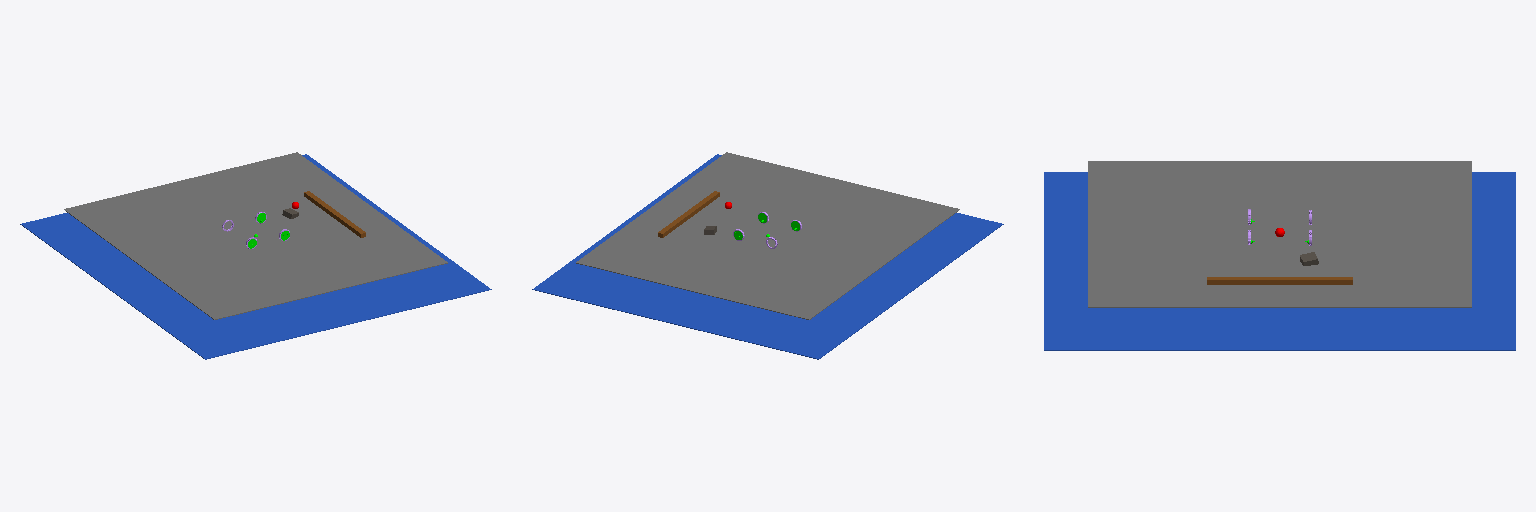
URDF robot description (0724_urdf):
<?xml version="1.0" encoding="utf-8"?>
<!-- This URDF was automatically created by SolidWorks to URDF Exporter! Originally created by Stephen Brawner (brawner@gmail.com) 
     Commit Version: 1.6.0-4-g7f85cfe  Build Version: 1.6.7995.38578
     For more information, please see http://wiki.ros.org/sw_urdf_exporter -->
<robot name="0724_urdf">

  <!-- =================================================================== -->
  <!-- ROOT LINK: ground_sphere (기준 구 - 원점 0,0,0)                     -->
  <!-- =================================================================== -->
  <link name="ground_sphere">
    <inertial>
      <origin xyz="0 0 0" rpy="0 0 0" />
      <mass value="0.1" />
      <inertia ixx="0.0001" ixy="0" ixz="0" iyy="0.0001" iyz="0" izz="0.0001" />
    </inertial>
    <visual>
      <origin xyz="0 0 0" rpy="0 0 0" />
      <geometry>
        <sphere radius="0.03" />
      </geometry>
      <material name="green_material">
        <color rgba="0.0 1.0 0.0 1.0" />
      </material>
    </visual>
    <collision>
      <origin xyz="0 0 0" rpy="0 0 0" />
      <geometry>
        <sphere radius="0.03" />
      </geometry>
    </collision>
  </link>

  <!-- =================================================================== -->
  <!-- LINK: ellipsoid_surface (Z축 아래로 0.30m 이동)                     -->
  <!-- =================================================================== -->
  <link name="ellipsoid_surface">
    <inertial>
      <origin xyz="0 0 0" rpy="0 0 0" />
      <mass value="30.0" />
      <inertia ixx="3.0" ixy="0" ixz="0" iyy="2.4" iyz="0" izz="5.0" />
    </inertial>
    <visual>
      <origin xyz="0 0 0" rpy="0 0 0" />
      <geometry>
        <box size="4.341 4.852 0.01" />
      </geometry>
      <material name="ellipsoid_mat">
        <color rgba="0.2 0.4 0.8 0.5" />
      </material>
    </visual>
    <collision>
      <origin xyz="0 0 0" rpy="0 0 0" />
      <geometry>
        <box size="4.341 4.852 0.01" />
      </geometry>
    </collision>
  </link>

  <joint name="sphere_to_ellipsoid_joint" type="fixed">
    <origin xyz="0 0 -0.30" rpy="0 0 0" />
    <parent link="ground_sphere" />
    <child link="ellipsoid_surface" />
  </joint>

  <!-- =================================================================== -->
  <!-- LINK: ground (3.544m x 3.964m)                                      -->
  <!-- =================================================================== -->
  <link name="ground">
    <inertial>
      <origin xyz="0 0 0" rpy="0 0 0" />
      <mass value="10.0" />
      <inertia ixx="0.818" ixy="0" ixz="0" iyy="0.654" iyz="0" izz="1.472" />
    </inertial>
    <visual>
      <origin xyz="0 0 0" rpy="0 0 0" />
      <geometry>
        <box size="3.544 3.964 0.01" />
      </geometry>
      <material name="ground_mat">
        <color rgba="0.5 0.5 0.5 0.8" />
      </material>
    </visual>
    <collision>
      <origin xyz="0 0 0" rpy="0 0 0" />
      <geometry>
        <box size="3.544 3.964 0.01" />
      </geometry>
    </collision>
  </link>

  <!-- 부모 링크를 ellipsoid_surface로 변경하여 ground_sphere -> ellipsoid_surface -> ground 구조 형성 -->
  <joint name="ellipsoid_to_ground_joint" type="fixed">
    <origin xyz="0 0 0.30" rpy="0 0 0" />
    <parent link="ellipsoid_surface" />
    <child link="ground" />
  </joint>

  <!-- =================================================================== -->
  <!-- ADDED: RECTANGULAR WOOD BAR (직사각형 각목 형태 나무막대)           -->
  <!-- =================================================================== -->
  <link name="obstacle_wood_bar">
    <inertial>
      <origin xyz="0 0 0" rpy="0 0 0" />
      <mass value="2.0" />
      <inertia ixx="0.37" ixy="0" ixz="0" iyy="0.001" iyz="0" izz="0.37" />
    </inertial>
    <visual>
      <origin xyz="0 0 0" rpy="0 0 0" />
      <geometry>
        <!-- 폭 0.08m, 길이 1.5m, 높이 0.06m (바퀴 높이 절반) -->
        <box size="0.08 1.5 0.06" />
      </geometry>
      <material name="wood_mat">
        <color rgba="0.55 0.35 0.15 1.0" />
      </material>
    </visual>
    <collision>
      <origin xyz="0 0 0" rpy="0 0 0" />
      <geometry>
        <box size="0.08 1.5 0.06" />
      </geometry>
    </collision>
  </link>

  <joint name="ground_to_wood_bar_joint" type="fixed">
    <origin xyz="1.2 0.0 0.035" rpy="0 0 0" />
    <parent link="ground" />
    <child link="obstacle_wood_bar" />
  </joint>

  <!-- =================================================================== -->
  <!-- SINGLE ROCK OBSTACLE (단일 돌멩이 장애물)                           -->
  <!-- =================================================================== -->
  <link name="obstacle_rock_1">
    <inertial>
      <origin xyz="0 0 0" rpy="0 0 0" />
      <mass value="1.5" />
      <inertia ixx="0.005" ixy="0" ixz="0" iyy="0.005" iyz="0" izz="0.005" />
    </inertial>
    <visual>
      <origin xyz="0 0 0" rpy="0 0 0" />
      <geometry>
        <box size="0.14 0.16 0.07" />
      </geometry>
      <material name="rock_mat_1">
        <color rgba="0.38 0.35 0.32 1.0" />
      </material>
    </visual>
    <collision>
      <origin xyz="0 0 0" rpy="0 0 0" />
      <geometry>
        <box size="0.14 0.16 0.07" />
      </geometry>
    </collision>
  </link>

  <joint name="ground_to_rock_1_joint" type="fixed">
    <origin xyz="0.7 0.3 0.04" rpy="0.1 0.15 0.3" />
    <parent link="ground" />
    <child link="obstacle_rock_1" />
  </joint>

  <!-- =================================================================== -->
  <!-- CAR FRAME                                                           -->
  <!-- =================================================================== -->
  <link name="car_frame">
    <inertial>
      <origin xyz="-0.0699924818342827 4.77680336962046E-09 0.266986488786553" rpy="0 0 0" />
      <mass value="4.36726752622487" />
      <inertia ixx="0.120130237589006" ixy="2.47975489095435E-06" ixz="-3.27227207151588E-05" iyy="0.191286662671253" iyz="2.68105956435735E-10" izz="0.301245720968892" />
    </inertial>
    <visual>
      <origin xyz="0 0 0" rpy="0 0 0" />
      <geometry>
        <mesh filename="../meshes/car_frame.STL" />
      </geometry>
      <material name="car_frame_mat">
        <color rgba="0.894117647058823 0.894117647058823 0.894117647058823 1" />
      </material>
    </visual>
    <collision>
      <origin xyz="0 0 0" rpy="0 0 0" />
      <geometry>
        <mesh filename="../meshes/car_frame.STL" />
      </geometry>
    </collision>
  </link>

  <joint name="ground_to_car_frame_joint" type="fixed">
    <origin xyz="0 0 0.005" rpy="0 0 0" />
    <parent link="ground" />
    <child link="car_frame" />
  </joint>

  <!-- =================================================================== -->
  <!-- LINK: RED SPHERE (전방 X축 배치)                                    -->
  <!-- =================================================================== -->
  <link name="front_target_sphere">
    <inertial>
      <origin xyz="0 0 0" rpy="0 0 0" />
      <mass value="0.05" />
      <inertia ixx="0.00005" ixy="0" ixz="0" iyy="0.00005" iyz="0" izz="0.00005" />
    </inertial>
    <visual>
      <origin xyz="0 0 0" rpy="0 0 0" />
      <geometry>
        <sphere radius="0.05" />
      </geometry>
      <material name="red_material">
        <color rgba="1.0 0.0 0.0 1.0" />
      </material>
    </visual>
    <collision>
      <origin xyz="0 0 0" rpy="0 0 0" />
      <geometry>
        <sphere radius="0.05" />
      </geometry>
    </collision>
  </link>

  <joint name="front_target_joint" type="fixed">
    <origin xyz="0.6 0 0.3" rpy="0 0 0" />
    <parent link="car_frame" />
    <child link="front_target_sphere" />
  </joint>

  <!-- =================================================================== -->
  <!-- SWING & WHEELS                                                      -->
  <!-- =================================================================== -->
  <link name="swing_link">
    <inertial>
      <origin xyz="2.89027833825533E-08 0.0605903676257634 0.00266440834148721" rpy="0 0 0" />
      <mass value="1.44344385530309" />
      <inertia ixx="0.00290322324922314" ixy="-5.3629396489287E-10" ixz="-2.47940935714728E-06" iyy="0.00598687173589356" iyz="3.64864367309232E-06" izz="0.00529337280538947" />
    </inertial>
    <visual>
      <origin xyz="0 0 0" rpy="0 0 0" />
      <geometry>
        <mesh filename="../meshes/swing_link.STL" />
      </geometry>
      <material name="swing_mat">
        <color rgba="0.894117647058823 0.894117647058823 0.894117647058823 1" />
      </material>
    </visual>
    <collision>
      <origin xyz="0 0 0" rpy="0 0 0" />
      <geometry>
        <mesh filename="../meshes/swing_link.STL" />
      </geometry>
    </collision>
  </link>

  <joint name="swing_joint" type="revolute">
    <origin xyz="0.226 0 0.19572" rpy="-1.5708 0 -1.5708" />
    <parent link="car_frame" />
    <child link="swing_link" />
    <axis xyz="0 0 1" />
    <limit lower="-0.2" upper="0.2" effort="10.0" velocity="1.0" />
  </joint>

  <!-- WHEEL FR & TIRE FR -->
  <link name="wheel_fr">
    <inertial>
      <origin xyz="-0.00570311862923931 0.0422312078327481 -0.00829956160844914" rpy="0 0 0" />
      <mass value="0.304138859926848" />
      <inertia ixx="0.000395045316087024" ixy="-2.69138802125918E-06" ixz="-4.80158404940406E-07" iyy="0.000414316538014111" iyz="3.47729172120058E-06" izz="0.000760266253987474" />
    </inertial>
    <visual>
      <origin xyz="0 0 0" rpy="0 0 0" />
      <geometry>
        <mesh filename="../meshes/wheel_fr.STL" />
      </geometry>
      <material name="green_wheel">
        <color rgba="0 1 0 1" />
      </material>
    </visual>
    <collision>
      <origin xyz="0 0 0" rpy="0 0 0" />
      <geometry>
        <mesh filename="../meshes/wheel_fr.STL" />
      </geometry>
    </collision>
  </link>

  <joint name="wheel_fr_joint" type="continuous">
    <origin xyz="0.32225 0.1648 0.03" rpy="1.5708 -1.5108 1.5708" />
    <parent link="swing_link" />
    <child link="wheel_fr" />
    <axis xyz="0 0 -1" />
  </joint>

  <link name="tire_fr">
    <inertial>
      <origin xyz="7.76422831502976E-05 0.00868726029411421 0.0001059050331738" rpy="0 0 0" />
      <mass value="0.165142633558274" />
      <inertia ixx="0.000463075796975926" ixy="-5.44937415188666E-09" ixz="7.50961713471071E-07" iyy="0.000907319831290129" iyz="-7.43304666822633E-09" izz="0.000463549564232601" />
    </inertial>
    <visual>
      <origin xyz="0 0 0" rpy="0 0 0" />
      <geometry>
        <mesh filename="../meshes/tire_fr.STL" />
      </geometry>
      <material name="purple_tire">
        <color rgba="0.796078431372549 0.623529411764706 1 1" />
      </material>
    </visual>
    <collision>
      <origin xyz="0 0 0" rpy="0 0 0" />
      <geometry>
        <mesh filename="../meshes/tire_fr.STL" />
      </geometry>
    </collision>
  </link>

  <joint name="tire_fr_joint" type="continuous">
    <origin xyz="-0.0064373 0.047566 0.003" rpy="-1.5708 0 -2.4469" />
    <parent link="wheel_fr" />
    <child link="tire_fr" />
    <axis xyz="0 1 0" />
  </joint>

  <!-- WHEEL FL & TIRE FL -->
  <link name="wheel_fl">
    <inertial>
      <origin xyz="-0.00570311862923928 0.0422312078327481 -0.00829956160844919" rpy="0 0 0" />
      <mass value="0.304138859926847" />
      <inertia ixx="0.000395045316087023" ixy="-2.69138802125915E-06" ixz="-4.80158404940521E-07" iyy="0.00041431653801411" iyz="3.47729172120065E-06" izz="0.000760266253987473" />
    </inertial>
    <visual>
      <origin xyz="0 0 0" rpy="0 0 0" />
      <geometry>
        <mesh filename="../meshes/wheel_fl.STL" />
      </geometry>
      <material name="green_wheel" />
    </visual>
    <collision>
      <origin xyz="0 0 0" rpy="0 0 0" />
      <geometry>
        <mesh filename="../meshes/wheel_fl.STL" />
      </geometry>
    </collision>
  </link>

  <joint name="wheel_fl_joint" type="continuous">
    <origin xyz="-0.32225 0.1648 0.03" rpy="-1.5708 1.5108 1.5708" />
    <parent link="swing_link" />
    <child link="wheel_fl" />
    <axis xyz="0 0 1" />
  </joint>

  <link name="tire_fl">
    <inertial>
      <origin xyz="7.7642283151047E-05 0.00868726029411437 0.000105905033174342" rpy="0 0 0" />
      <mass value="0.165142633558273" />
      <inertia ixx="0.000463075796975928" ixy="-5.44937415162008E-09" ixz="7.5096171347E-07" iyy="0.000907319831290127" iyz="-7.43304666820223E-09" izz="0.000463549564232599" />
    </inertial>
    <visual>
      <origin xyz="0 0 0" rpy="0 0 0" />
      <geometry>
        <mesh filename="../meshes/tire_fl.STL" />
      </geometry>
      <material name="purple_tire" />
    </visual>
    <collision>
      <origin xyz="0 0 0" rpy="0 0 0" />
      <geometry>
        <mesh filename="../meshes/tire_fl.STL" />
      </geometry>
    </collision>
  </link>

  <joint name="tire_fl_joint" type="continuous">
    <origin xyz="-0.0064373 0.047566 0.003" rpy="-1.5708 0 -2.4469" />
    <parent link="wheel_fl" />
    <child link="tire_fl" />
    <axis xyz="0 -1 0" />
  </joint>

  <!-- WHEEL RR & TIRE RR -->
  <link name="wheel_rr">
    <inertial>
      <origin xyz="-0.00570311862923931 0.0422312078327481 -0.00829956160844908" rpy="0 0 0" />
      <mass value="0.304138859926848" />
      <inertia ixx="0.000395045316087024" ixy="-2.6913880212591E-06" ixz="-4.80158404939289E-07" iyy="0.000414316538014111" iyz="3.47729172120071E-06" izz="0.000760266253987474" />
    </inertial>
    <visual>
      <origin xyz="0 0 0" rpy="0 0 0" />
      <geometry>
        <mesh filename="../meshes/wheel_rr.STL" />
      </geometry>
      <material name="green_wheel" />
    </visual>
    <collision>
      <origin xyz="0 0 0" rpy="0 0 0" />
      <geometry>
        <mesh filename="../meshes/wheel_rr.STL" />
      </geometry>
    </collision>
  </link>

  <joint name="wheel_rr_joint" type="continuous">
    <origin xyz="-0.244 -0.32225 0.030922" rpy="1.5708 0.059958 0" />
    <parent link="car_frame" />
    <child link="wheel_rr" />
    <axis xyz="0 0 -1" />
  </joint>

  <link name="tire_rr">
    <inertial>
      <origin xyz="7.76422831505197E-05 0.00868726029411432 0.00010590503317362" rpy="0 0 0" />
      <mass value="0.165142633558276" />
      <inertia ixx="0.00046307579697593" ixy="-5.44937415025454E-09" ixz="7.50961713472426E-07" iyy="0.000907319831290135" iyz="-7.43304666863456E-09" izz="0.000463549564232603" />
    </inertial>
    <visual>
      <origin xyz="0 0 0" rpy="0 0 0" />
      <geometry>
        <mesh filename="../meshes/tire_rr.STL" />
      </geometry>
      <material name="purple_tire" />
    </visual>
    <collision>
      <origin xyz="0 0 0" rpy="0 0 0" />
      <geometry>
        <mesh filename="../meshes/tire_rr.STL" />
      </geometry>
    </collision>
  </link>

  <joint name="tire_rr_joint" type="continuous">
    <origin xyz="-0.0064373 0.047566 0.003" rpy="-1.5708 0 -2.4469" />
    <parent link="wheel_rr" />
    <child link="tire_rr" />
    <axis xyz="0 1 0" />
  </joint>

  <!-- WHEEL RL & TIRE RL -->
  <link name="wheel_rl">
    <inertial>
      <origin xyz="-0.00570311862923939 0.0422312078327481 -0.00829956160844914" rpy="0 0 0" />
      <mass value="0.304138859926847" />
      <inertia ixx="0.000395045316087023" ixy="-2.6913880212591E-06" ixz="-4.80158404939232E-07" iyy="0.000414316538014111" iyz="3.47729172120071E-06" izz="0.000760266253987473" />
    </inertial>
    <visual>
      <origin xyz="0 0 0" rpy="0 0 0" />
      <geometry>
        <mesh filename="../meshes/wheel_rl.STL" />
      </geometry>
      <material name="green_wheel" />
    </visual>
    <collision>
      <origin xyz="0 0 0" rpy="0 0 0" />
      <geometry>
        <mesh filename="../meshes/wheel_rl.STL" />
      </geometry>
    </collision>
  </link>

  <joint name="wheel_rl_joint" type="continuous">
    <origin xyz="-0.244 0.32225 0.030922" rpy="1.5708 0.059958 -3.1416" />
    <parent link="car_frame" />
    <child link="wheel_rl" />
    <axis xyz="0 0 1" />
  </joint>

  <link name="tire_rl">
    <inertial>
      <origin xyz="7.76422831503532E-05 0.00868726029411443 0.00010590503317405" rpy="0 0 0" />
      <mass value="0.165142633558276" />
      <inertia ixx="0.000463075796975933" ixy="-5.44937414973503E-09" ixz="7.50961713469743E-07" iyy="0.000907319831290136" iyz="-7.43304666839591E-09" izz="0.000463549564232602" />
    </inertial>
    <visual>
      <origin xyz="0 0 0" rpy="0 0 0" />
      <geometry>
        <mesh filename="../meshes/tire_rl.STL" />
      </geometry>
      <material name="purple_tire" />
    </visual>
    <collision>
      <origin xyz="0 0 0" rpy="0 0 0" />
      <geometry>
        <mesh filename="../meshes/tire_rl.STL" />
      </geometry>
    </collision>
  </link>

  <joint name="tire_rl_joint" type="continuous">
    <origin xyz="-0.0064373 0.047566 0.003" rpy="-1.5708 0 -2.4469" />
    <parent link="wheel_rl" />
    <child link="tire_rl" />
    <axis xyz="0 -1 0" />
  </joint>

</robot>

--- What the picture shows (computed from the rendered views, not written in the file) ---
Views: 3 orthographic renders of the robot side by side, from view 1: azimuth 30°, elevation 25°; view 2: azimuth 150°, elevation 25°; view 3: azimuth 270°, elevation 25°.
Model 0724_urdf with 16 links and 15 joints (1 revolute, 8 continuous, 6 fixed), rooted at ground_sphere, posed all joints at 0.
Links seen in each view (by area): view 1: ground, ellipsoid_surface, obstacle_wood_bar; view 2: ground, ellipsoid_surface, obstacle_wood_bar; view 3: ground, ellipsoid_surface, obstacle_wood_bar.
Boxes of the visible links, bbox=[...] form: ground: bbox=[64, 152, 447, 319]; ellipsoid_surface: bbox=[20, 154, 491, 359]; obstacle_wood_bar: bbox=[304, 191, 365, 237]; ground: bbox=[576, 152, 959, 319]; ellipsoid_surface: bbox=[532, 154, 1003, 359]; obstacle_wood_bar: bbox=[658, 191, 719, 237]; ground: bbox=[1088, 161, 1471, 307]; ellipsoid_surface: bbox=[1044, 172, 1515, 350]; obstacle_wood_bar: bbox=[1207, 277, 1352, 284].
Bounding box of the posed robot: 4.34 × 4.85 × 0.66 m (x, y, z).
7 mesh visuals loaded from 10 distinct referenced files (7 binary STL); not drawn: 3 (reference not matched to a file when rendering).
